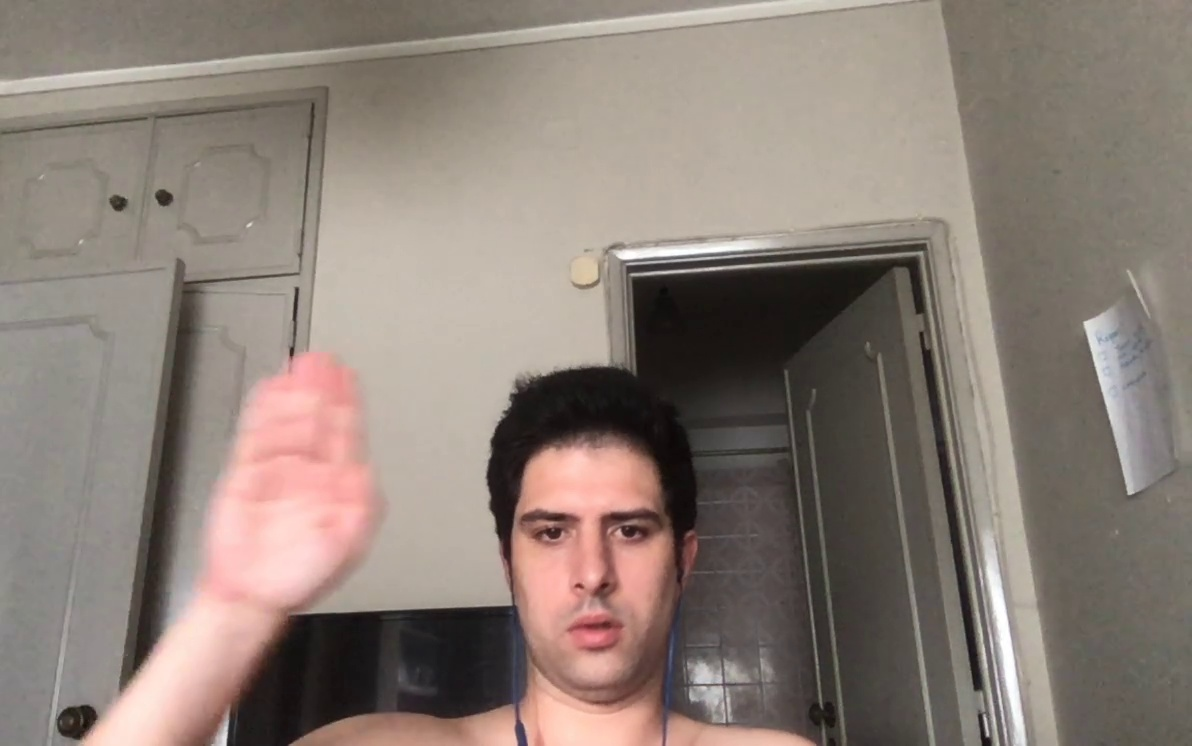b: (194, 358, 390, 607)
